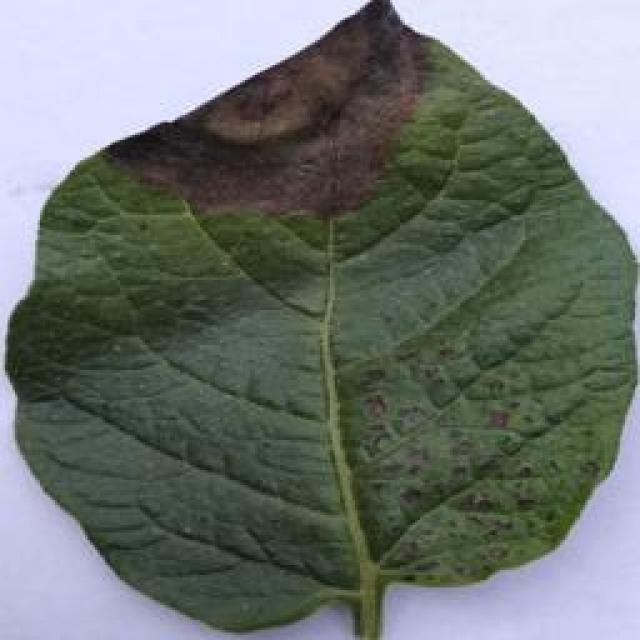Potato_Late_Blight: (4, 3, 634, 630)
